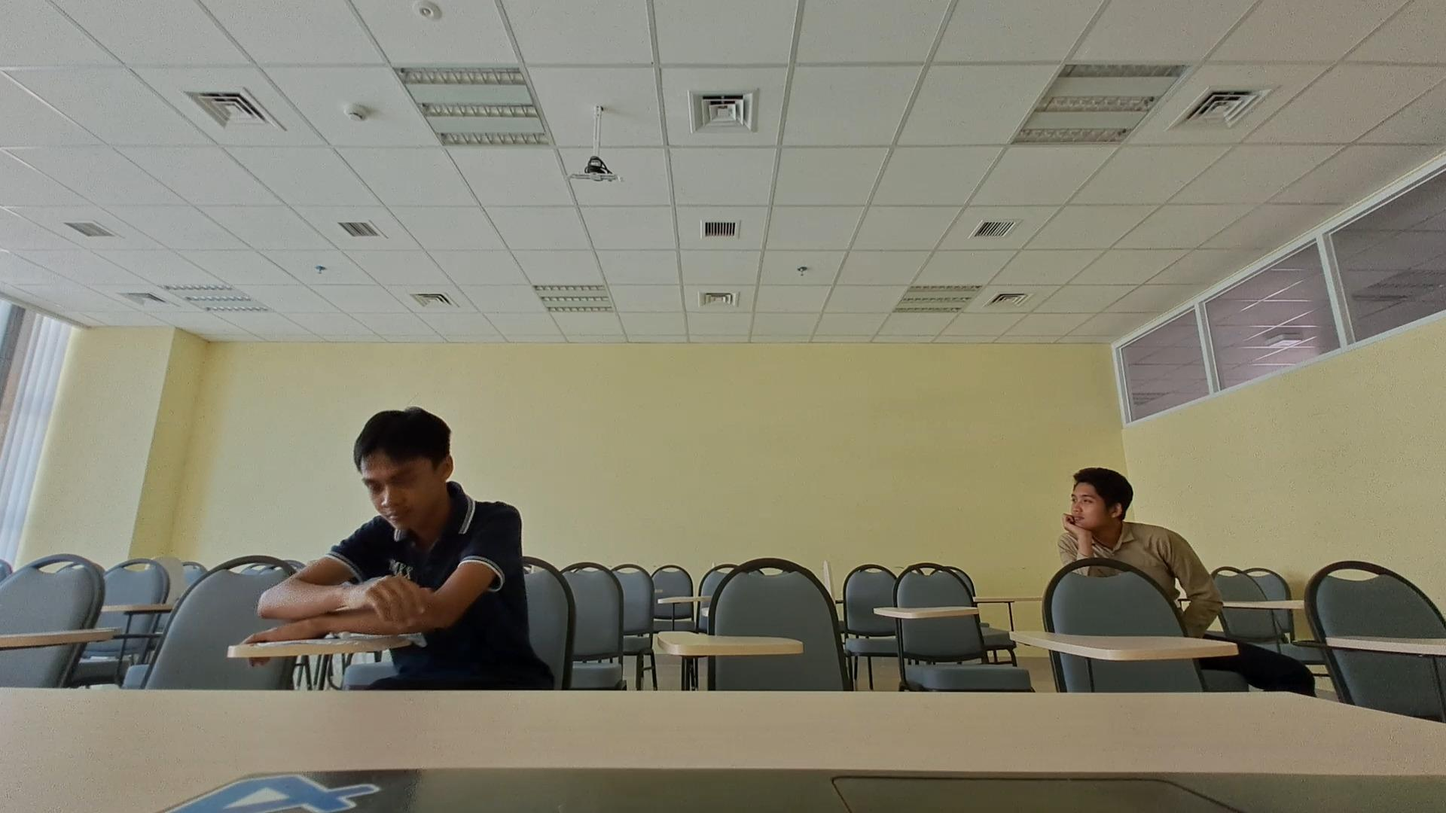sleep: (264, 410, 550, 698)
study: (1052, 463, 1220, 638)
